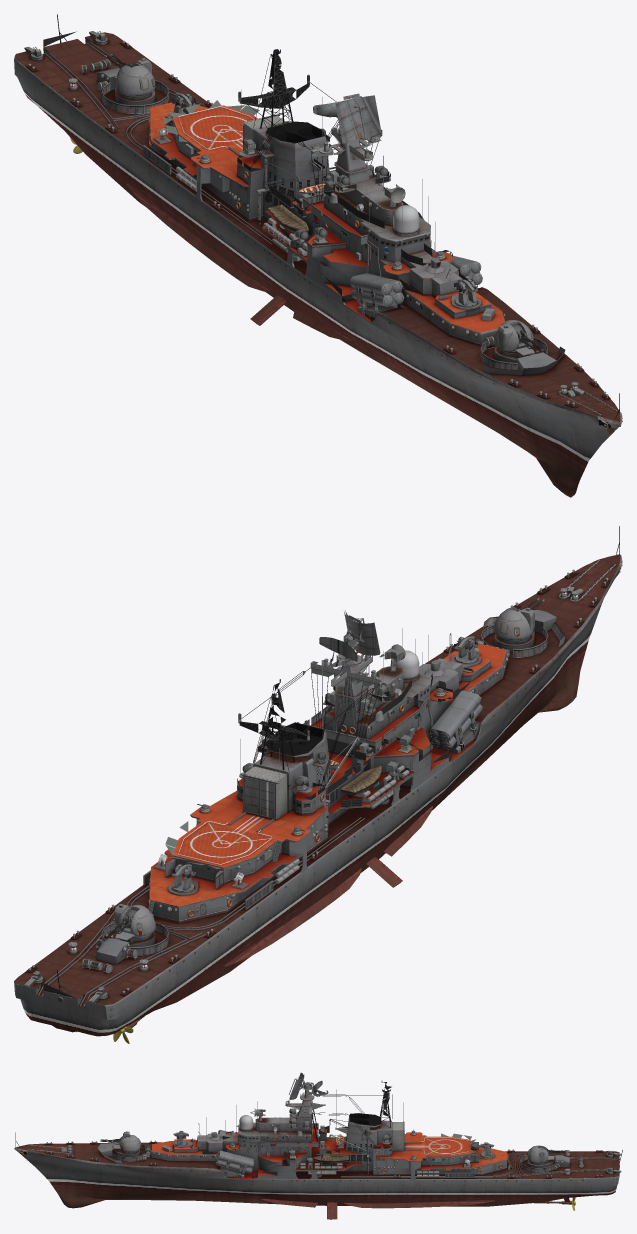
File: sovremenny-class_destroyer.glb
3 renders of one model, top to bottom at view 1: azimuth 30°, elevation 25°; view 2: azimuth 150°, elevation 25°; view 3: azimuth 270°, elevation 25°, orthographic. The views are drawn at different scales.
Visible parts, largest first — view 1: Object_17, Object_1033, Object_743, Object_1067, Object_2107, Object_429, Object_27, Object_41, Object_1071, Object_1037, Object_61, Object_2105 (+8 smaller); view 2: Object_17, Object_1033, Object_743, Object_1067, Object_1071, Object_57, Object_2107, Object_437, Object_429, Object_27, Object_61, Object_2105 (+3 smaller); view 3: Object_17, Object_1033, Object_743, Object_1067, Object_417, Object_27, Object_1071, Object_717, Object_2107, Object_41, Object_61, Object_57 (+13 smaller).
Boxes of the visible parts, <box> form: Object_17: <box>14,37,622,497</box>; Object_1033: <box>15,32,306,275</box>; Object_743: <box>379,287,620,421</box>; Object_1067: <box>173,105,257,185</box>; Object_2107: <box>313,93,381,143</box>; Object_429: <box>126,183,269,291</box>; Object_27: <box>335,140,394,225</box>; Object_41: <box>480,337,565,374</box>; Object_1071: <box>150,102,208,175</box>; Object_1037: <box>402,282,504,332</box>; Object_61: <box>97,68,169,113</box>; Object_2105: <box>116,59,155,95</box>; Object_17: <box>14,554,622,1036</box>; Object_1033: <box>15,786,410,1008</box>; Object_743: <box>425,554,620,722</box>; Object_1067: <box>172,791,326,867</box>; Object_1071: <box>150,849,297,906</box>; Object_57: <box>243,766,287,820</box>; Object_2107: <box>319,610,380,667</box>; Object_437: <box>428,690,482,750</box>; Object_429: <box>224,868,361,966</box>; Object_27: <box>335,665,403,723</box>; Object_61: <box>96,922,168,964</box>; Object_2105: <box>114,904,155,936</box>; Object_17: <box>14,1113,619,1208</box>; Object_1033: <box>295,1151,619,1178</box>; Object_743: <box>16,1142,220,1169</box>; Object_1067: <box>376,1132,470,1160</box>; Object_417: <box>344,1200,494,1208</box>; Object_27: <box>255,1100,311,1131</box>; Object_1071: <box>420,1147,506,1169</box>; Object_717: <box>217,1150,253,1173</box>; Object_2107: <box>289,1072,328,1099</box>; Object_41: <box>98,1143,145,1163</box>; Object_61: <box>520,1154,569,1172</box>; Object_57: <box>392,1122,404,1150</box>.
Size of the model in its own units: 0.1629 by 0.2651 by 1.11.
Materials: 9 (7 with a texture image).
